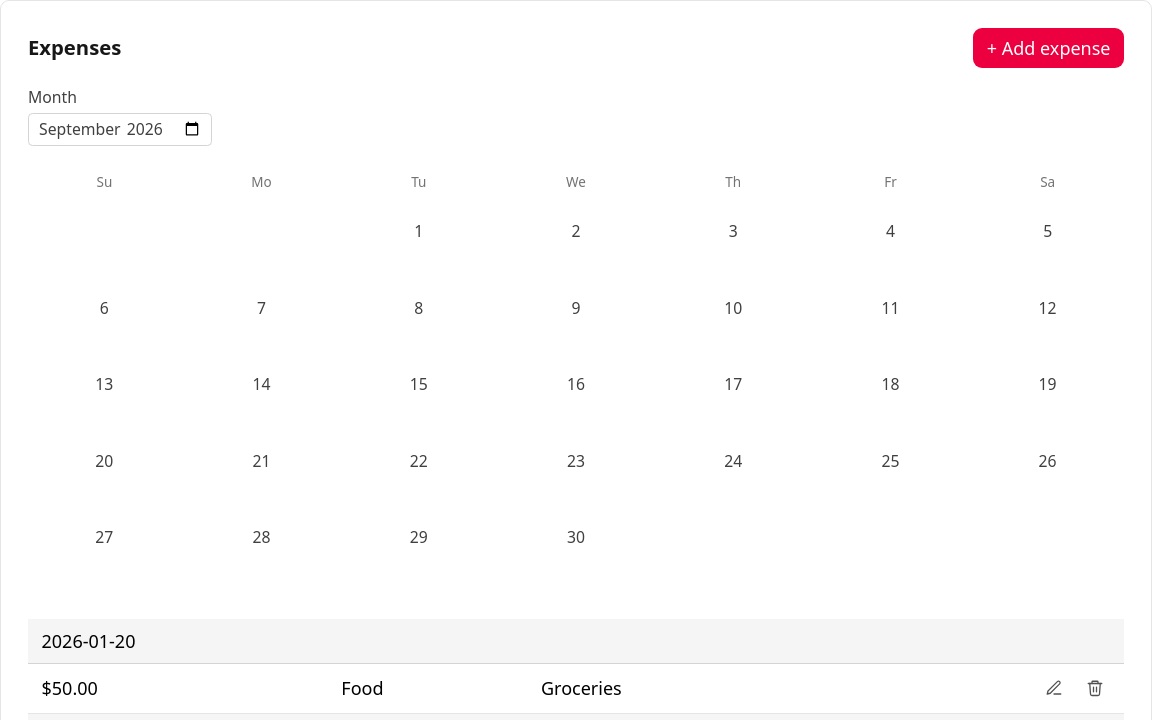
it: ExpenseLog › removes a row from the list when its date is edited outside the selected month
Replace the text in the field labelled "Month" with "2026-01" at (120, 129), box [28, 113, 212, 146]
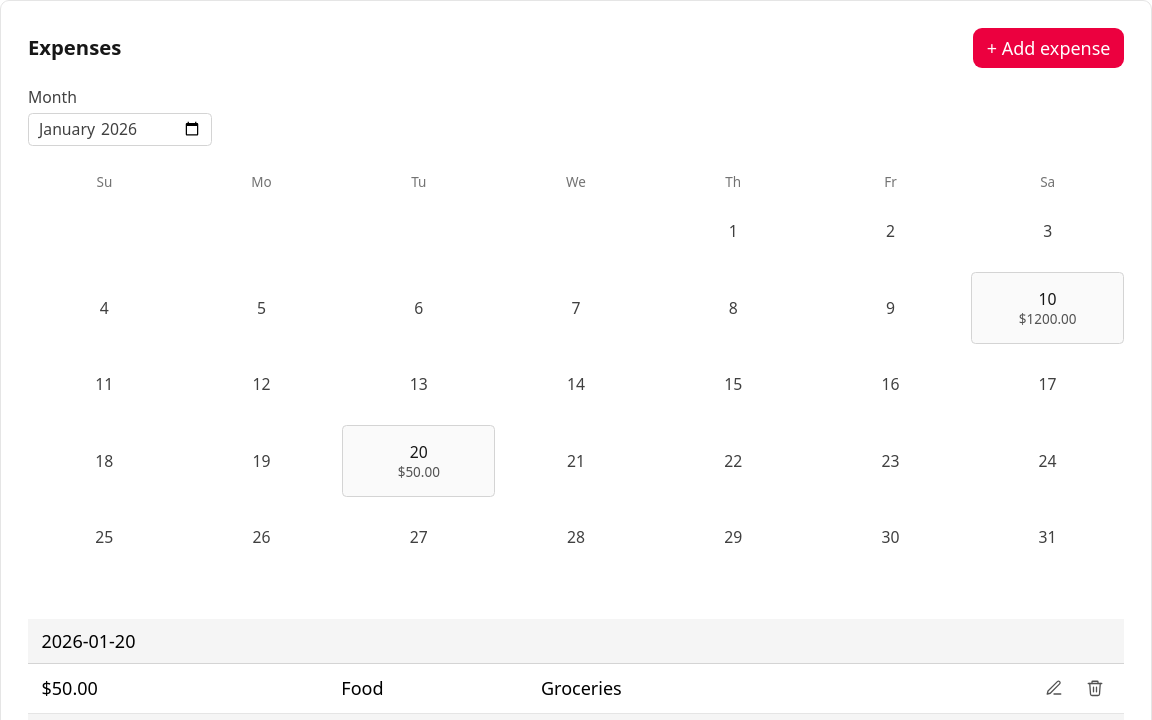
Click the button named "Edit expense" at (1054, 688), box [1038, 673, 1070, 704]
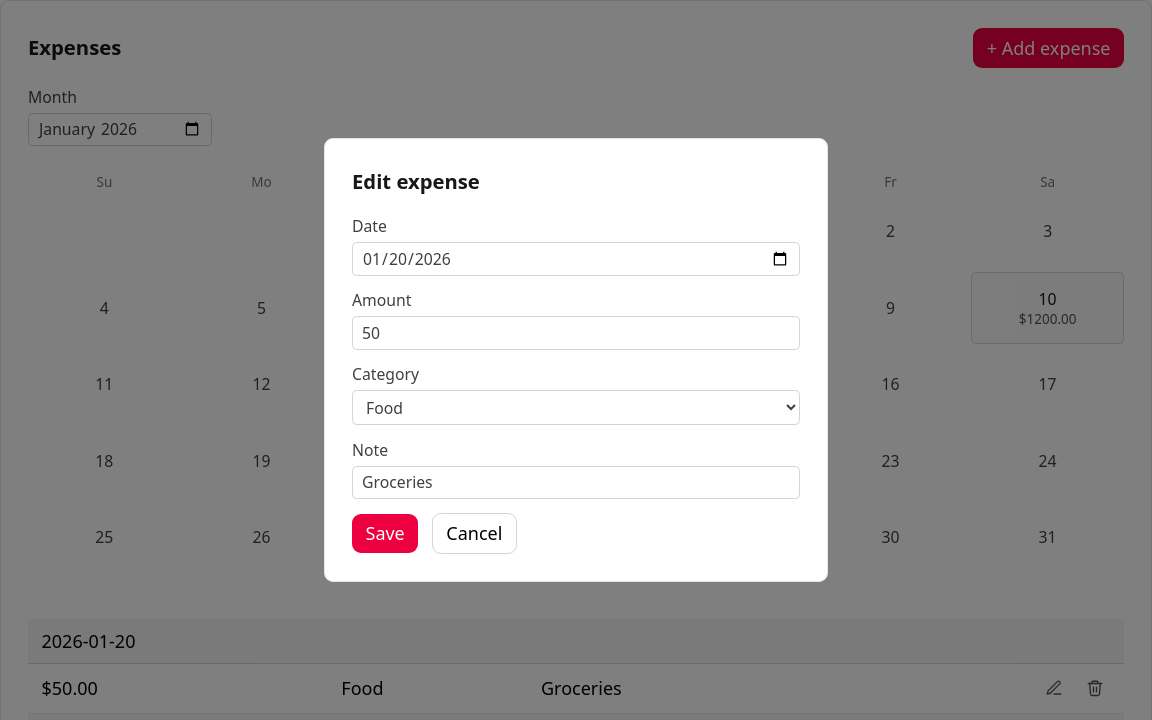
Type "2026-02-05" into the date field labelled "Date" at (576, 259), box [352, 242, 800, 276]
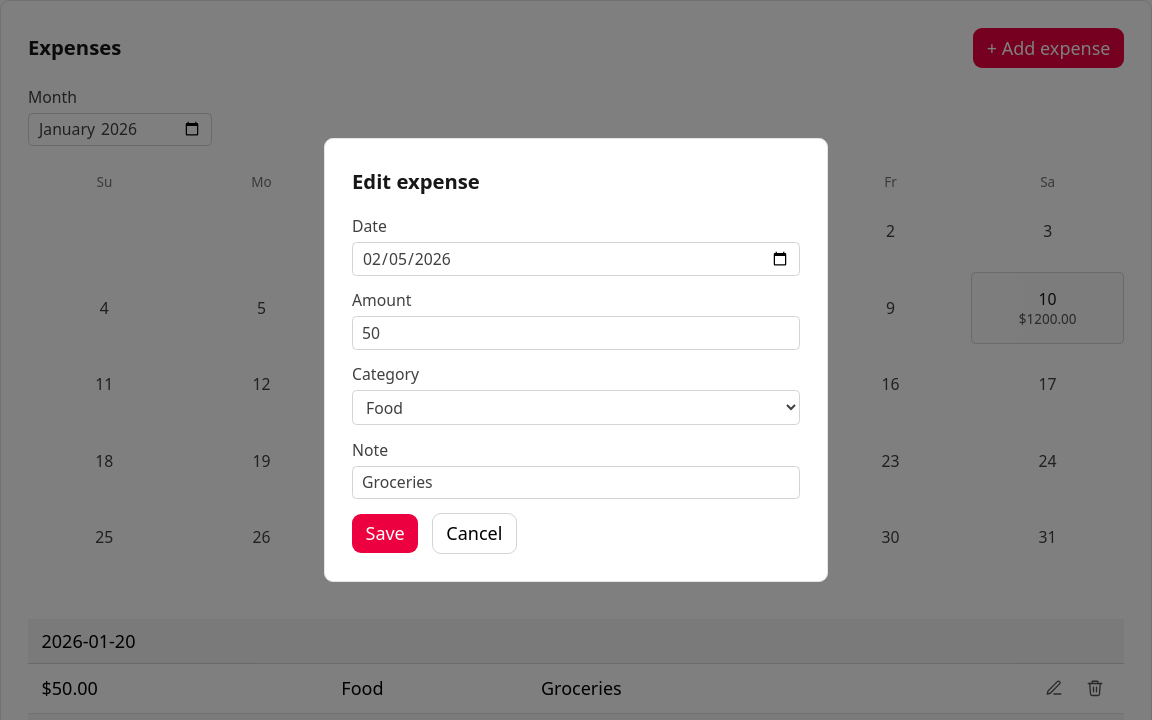
Click the button "Save" at (385, 534), box [352, 514, 418, 553]
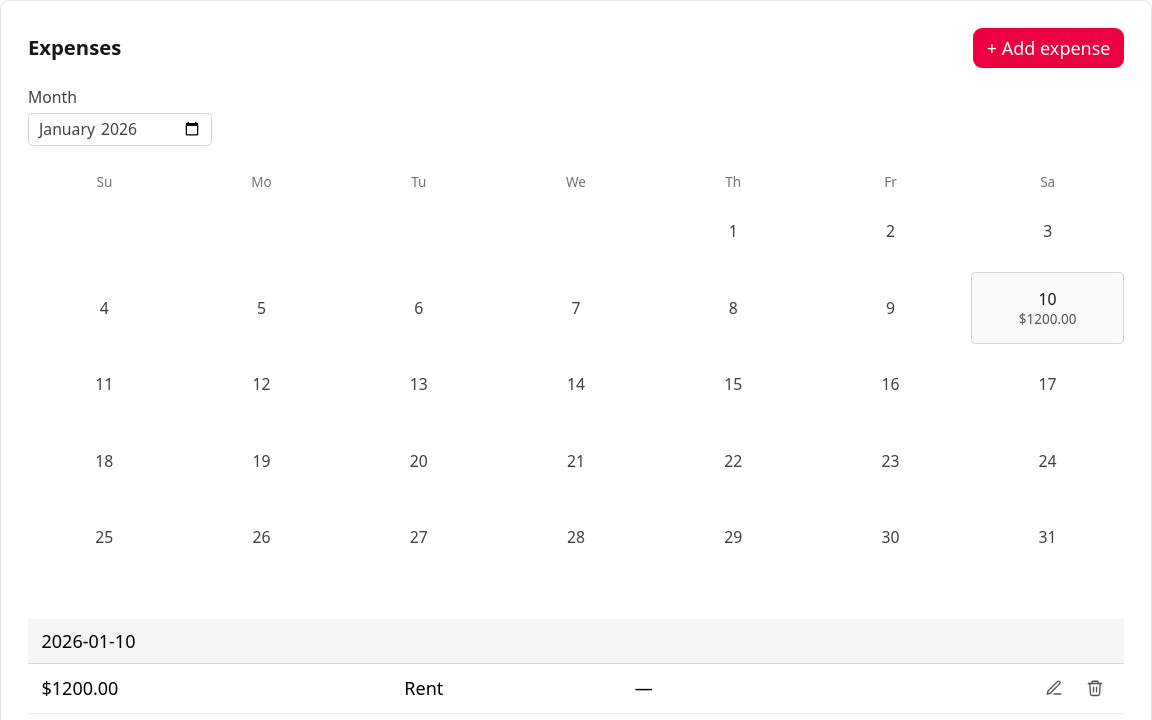
Check: the button "$50.00" is gone
Check: the number of rows with test id "expense-row" is 1, box [28, 663, 1124, 714]
